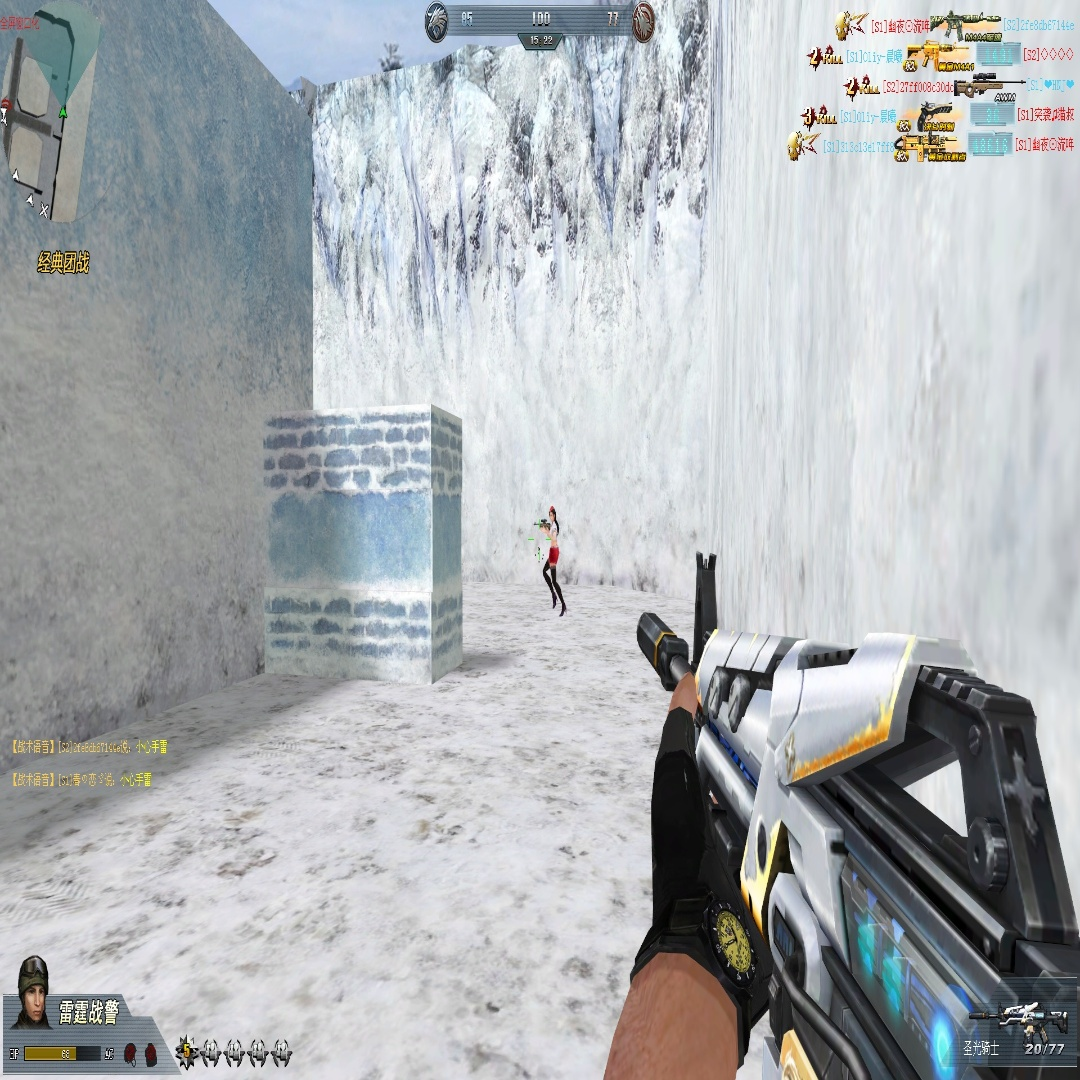t: (536, 504, 568, 616)
